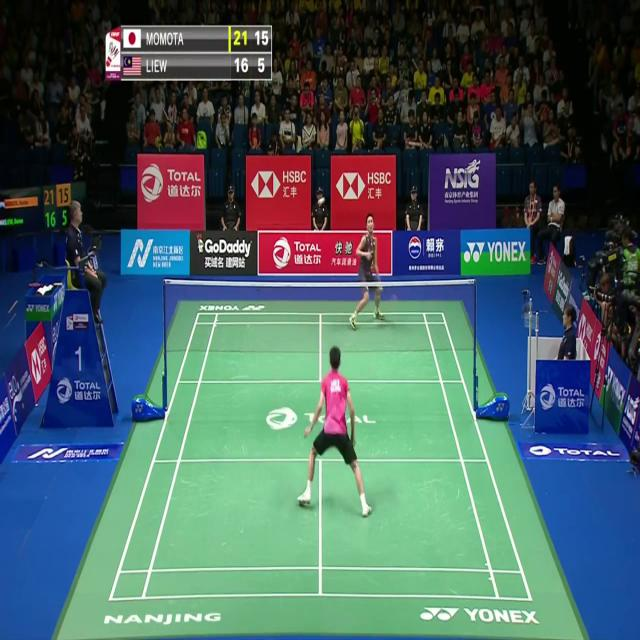Shuttlecock: (318, 195, 325, 207)
